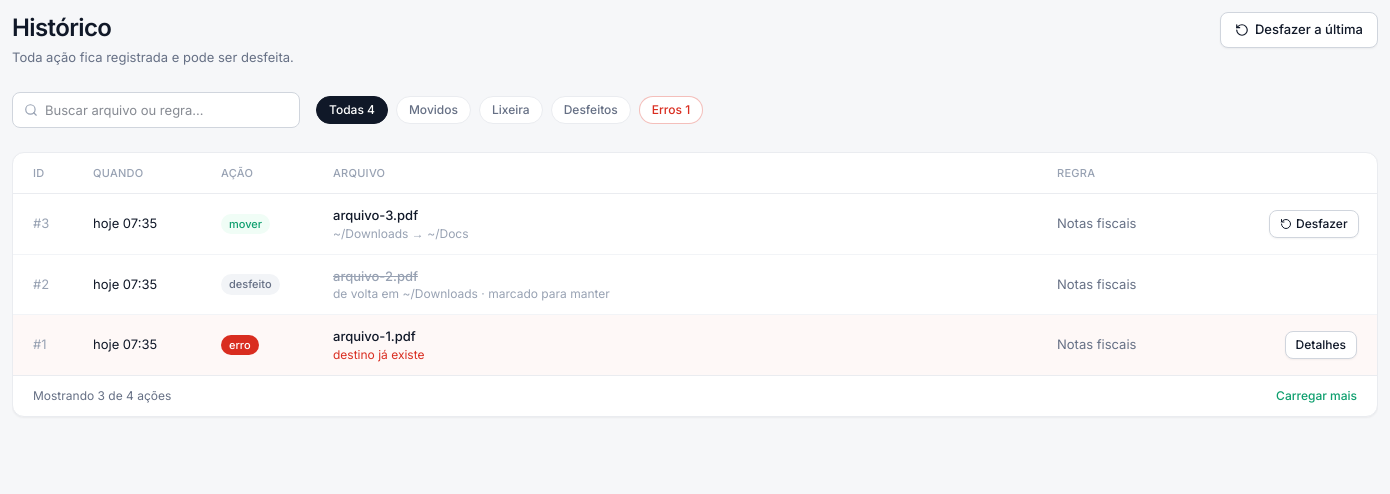
Test case: History › filters, searches and paginates
Expected: the text "arquivo-3.pdf" is shown, [333,207,418,223]
Click the button "Lixeira". click: (511, 110)
box: [479,96,543,124]
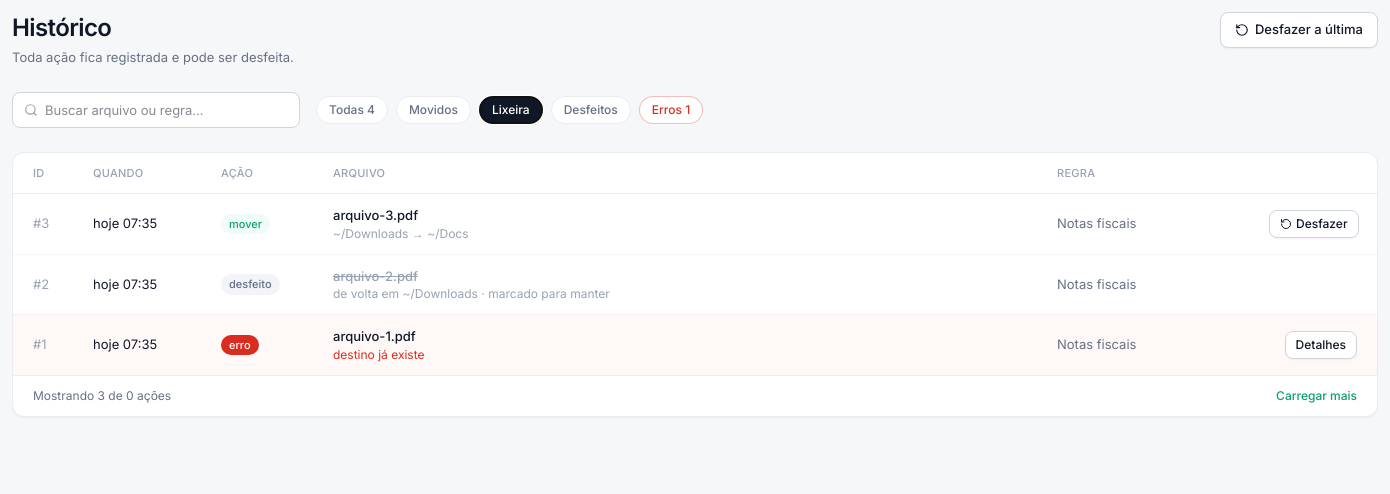
Type "nubank" into the search field with placeholder "Buscar arquivo ou regra…". click: (156, 110)
box: [12,92,300,128]
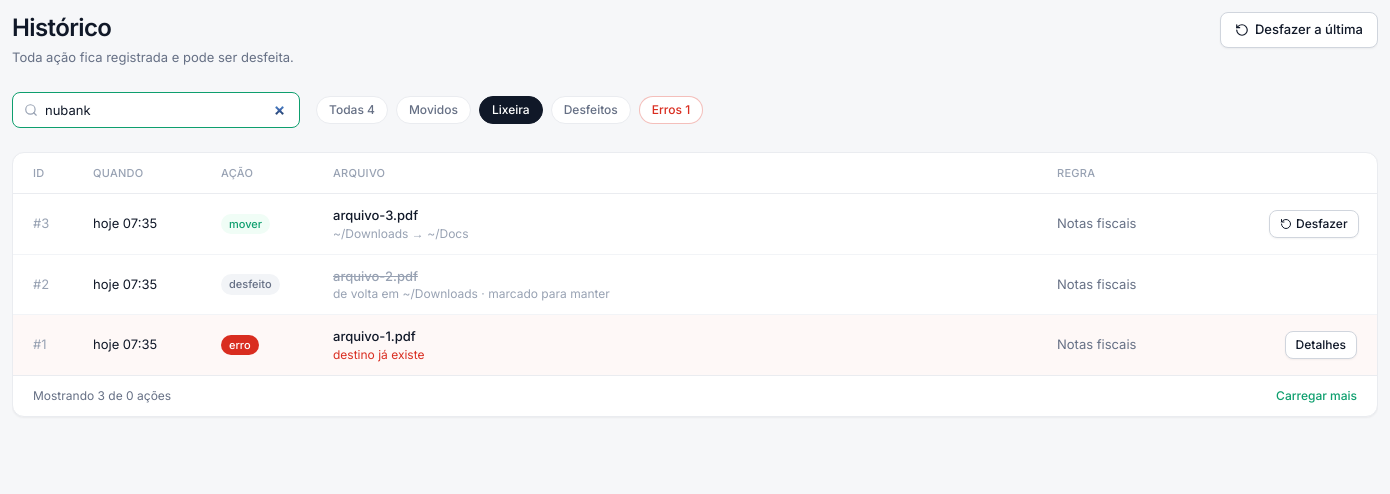
Click the button "Carregar mais". click: (1317, 396)
box: [1276,388,1357,404]
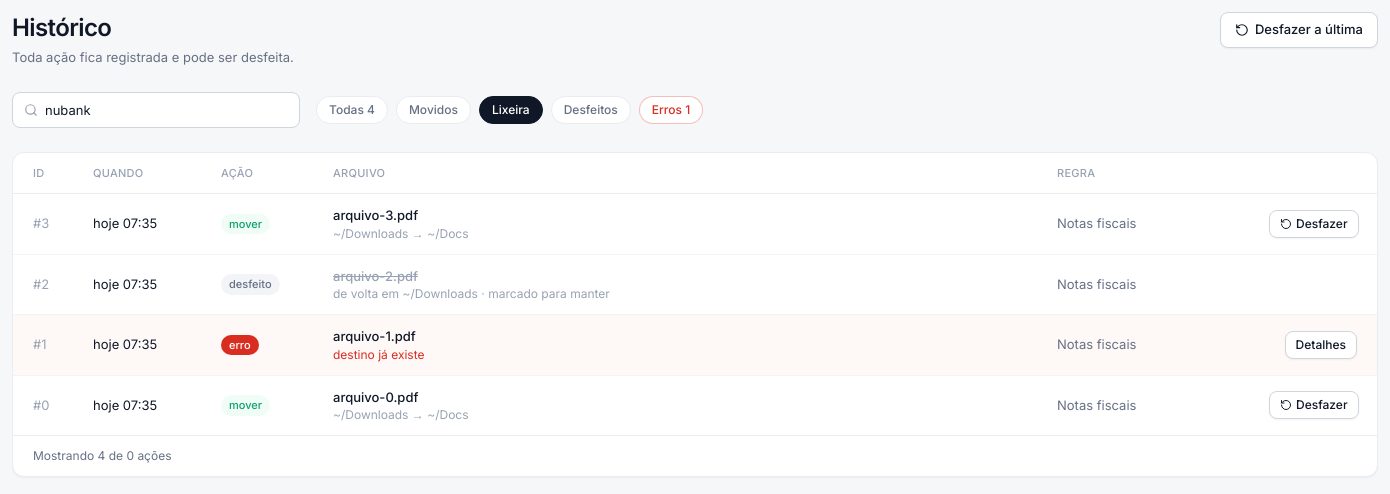
Expected: the text "arquivo-0.pdf" is shown, [333,388,418,404]
